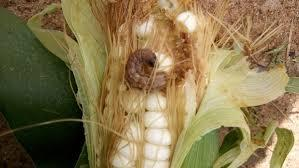fallarmy_worm: (121, 48, 177, 89)
